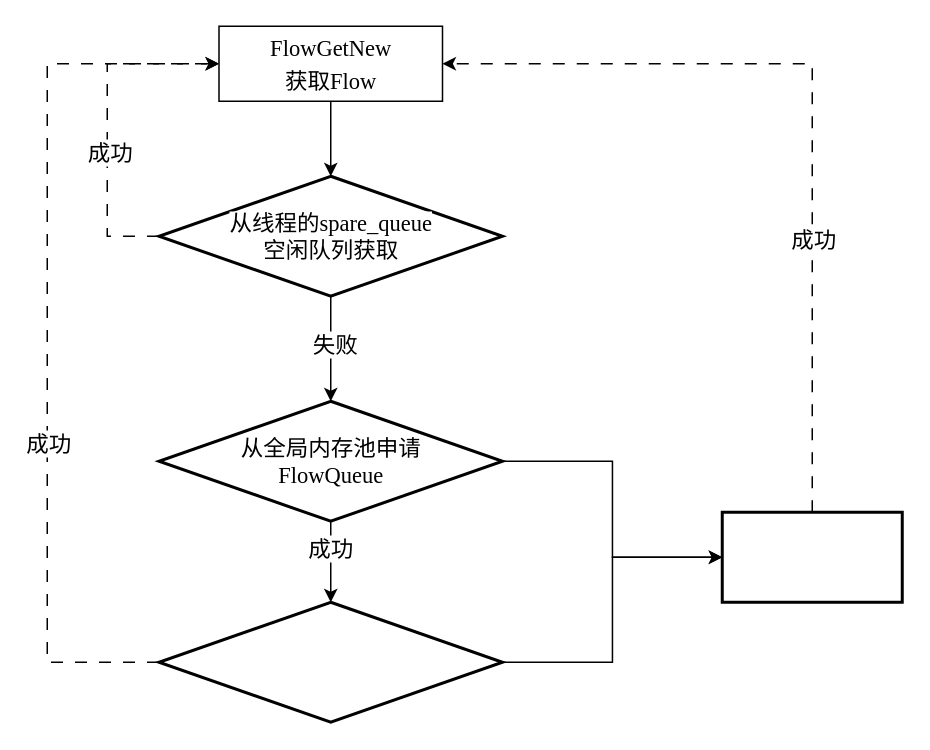
This 930x750 diagram has some shape labels left out. Here are the shapes that lost their labels. From the top down, the centre of each, then its label:
(x=811, y=556): FlowAlloc函数 直接申请Flow
(x=330, y=661): 从FlowQueue中申请 Flow对象
